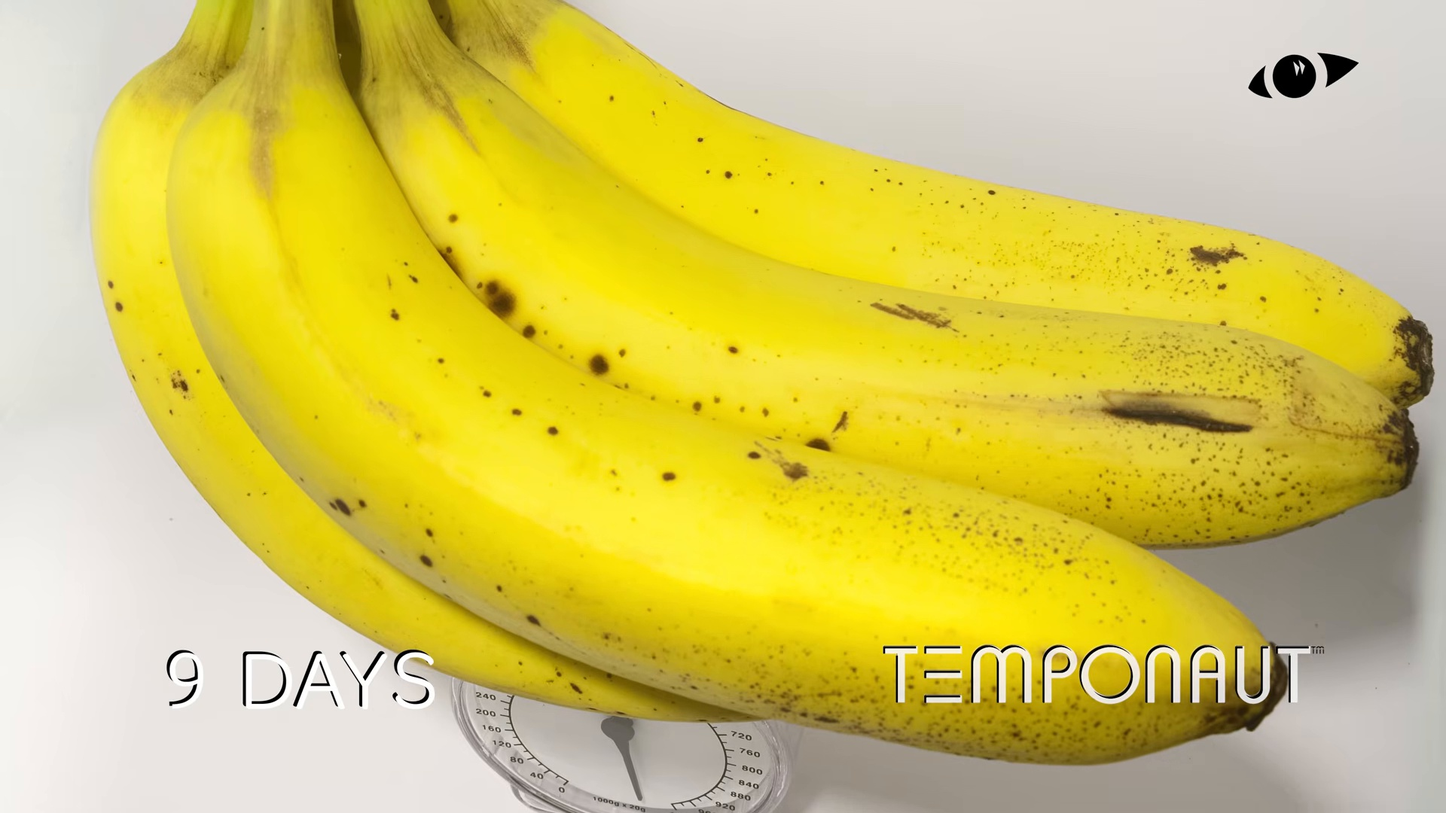banana_fresh: (87, 4, 1419, 767)
